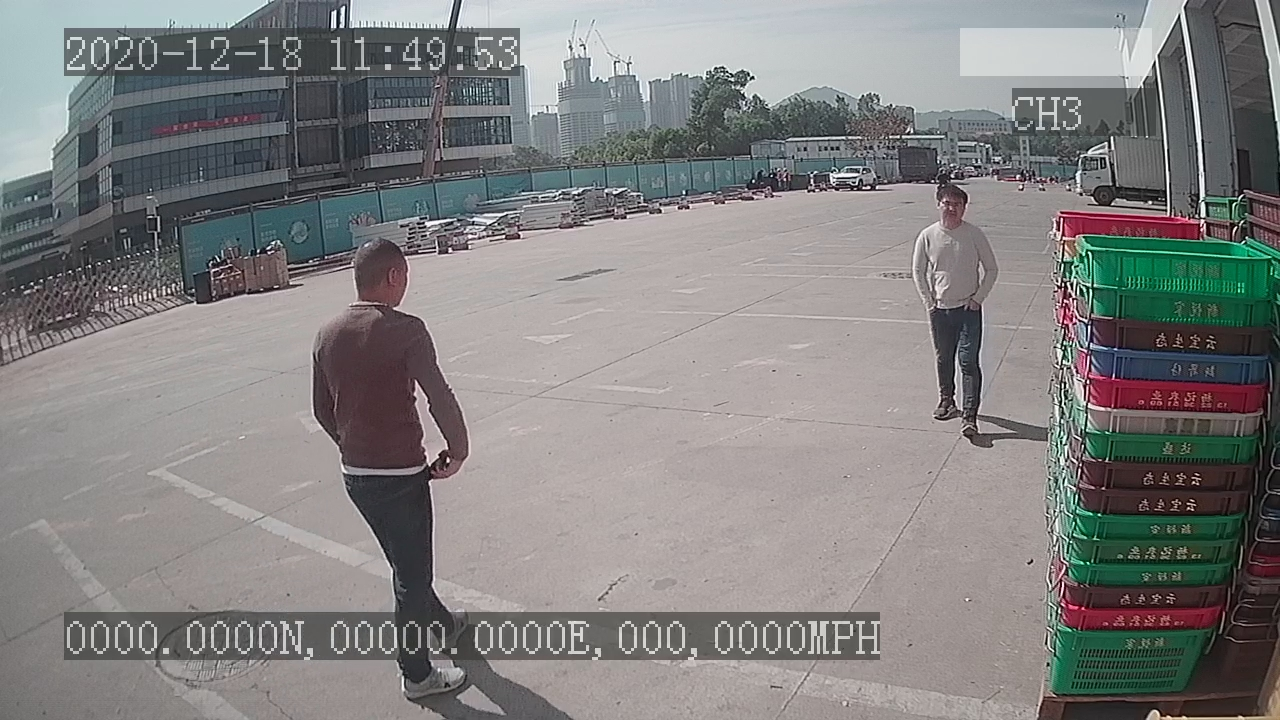person: (904, 181, 1001, 440)
